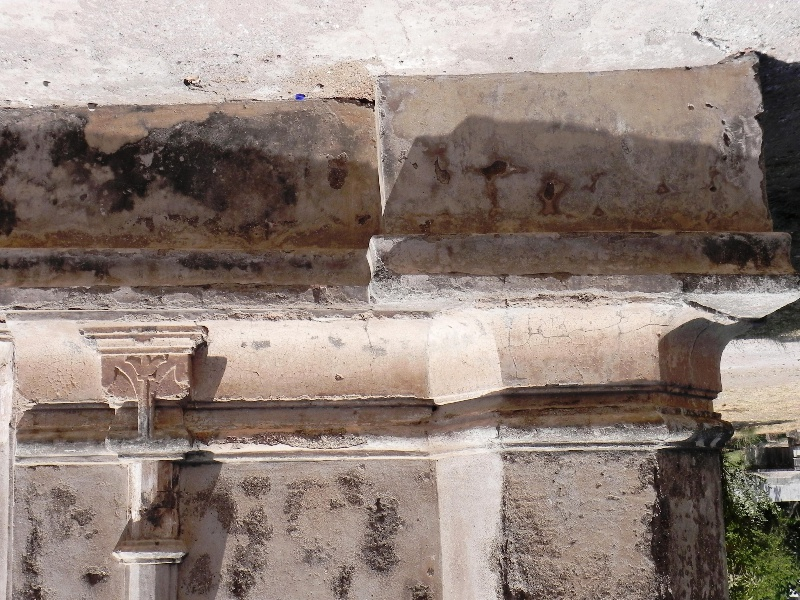Spalling: (355, 484, 406, 576)
